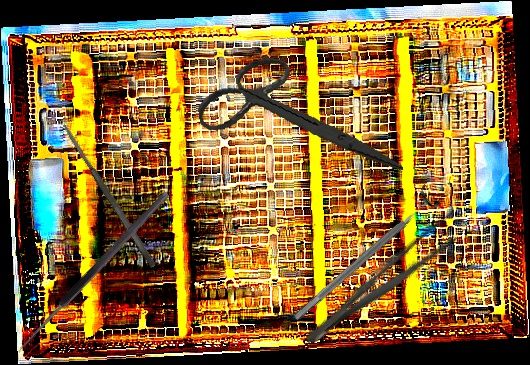Dressing Forceps: (297, 206, 471, 355)
Fixation Ring: (285, 183, 443, 329)
Hook Surgical: (15, 189, 178, 363)
Iris Scissors: (191, 40, 404, 201)
Spatula Surgical: (60, 121, 158, 270)
